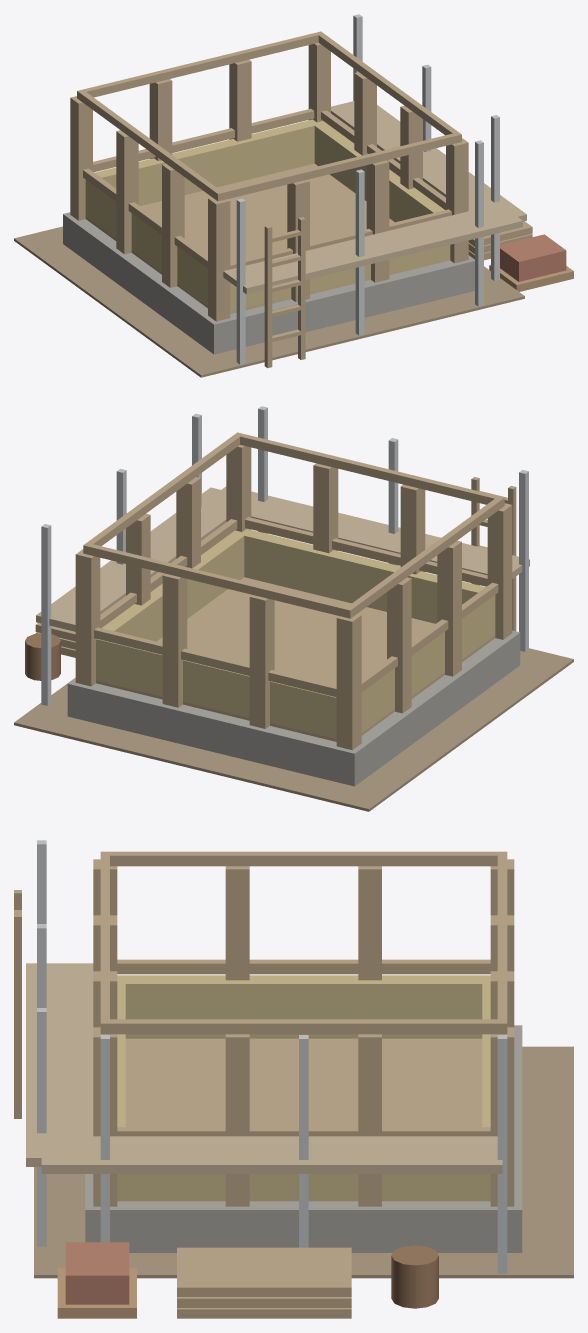
The model's file is chicken_coop_site_5.glb.
3 renders of one model, top to bottom at view 1: azimuth 30°, elevation 25°; view 2: azimuth 150°, elevation 25°; view 3: azimuth 270°, elevation 25°, orthographic. The views are drawn at different scales.
Visible parts, largest first — view 1: body; view 2: body; view 3: body.
Part boxes in pixels (x1,y1,x2,y2): body: (14,14,573,377); body: (14,406,573,811); body: (14,840,573,1318).
Bounding box in the file's own units: 1.6 × 0.6617 × 1.41.
